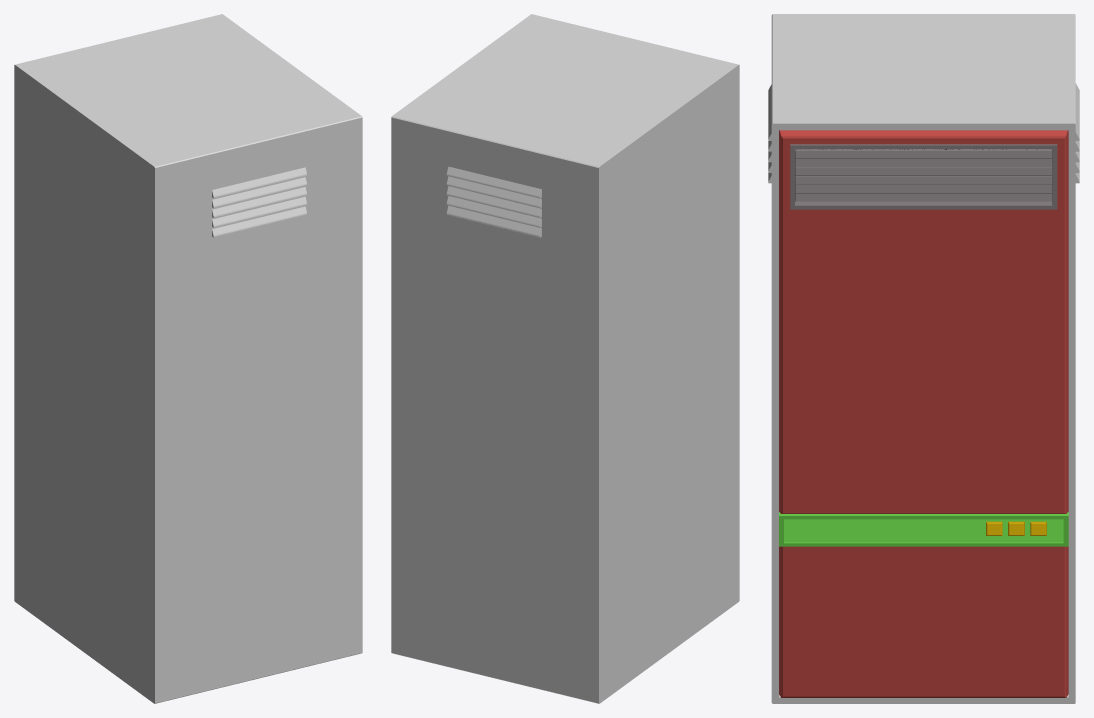
3 views of the same model, side by side, from view 1: azimuth 30°, elevation 25°; view 2: azimuth 150°, elevation 25°; view 3: azimuth 270°, elevation 25° (orthographic). The views are drawn at different scales.
Visible parts, largest first — view 1: Server.031; view 2: Server.031; view 3: Server.031.
Part boxes in pixels (<box>): Server.031: <box>14,14,362,703</box>; Server.031: <box>391,14,739,703</box>; Server.031: <box>768,14,1079,703</box>.
Bounding box in the file's own units: 83.31 × 203 × 98.72.
